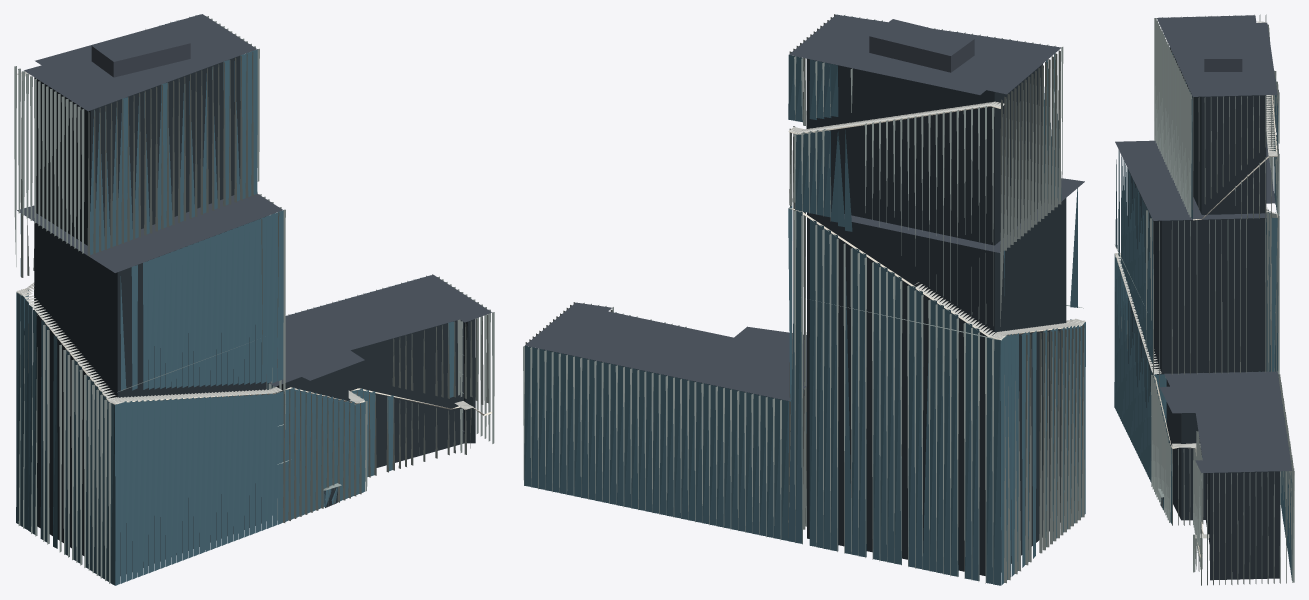
File: vinoly.lod1.glb
3 views of the same model, side by side, from view 1: azimuth 30°, elevation 25°; view 2: azimuth 150°, elevation 25°; view 3: azimuth 270°, elevation 25° (orthographic). The views are drawn at different scales.
Parts seen in each view (by area): view 1: vinoly; view 2: vinoly; view 3: vinoly.
Boxes of the visible parts, bbox=[...] form: vinoly: bbox=[14, 14, 494, 585]; vinoly: bbox=[523, 14, 1085, 585]; vinoly: bbox=[1114, 14, 1294, 585].
Bounding box in the file's own units: 92.09 × 94.05 × 38.22.
